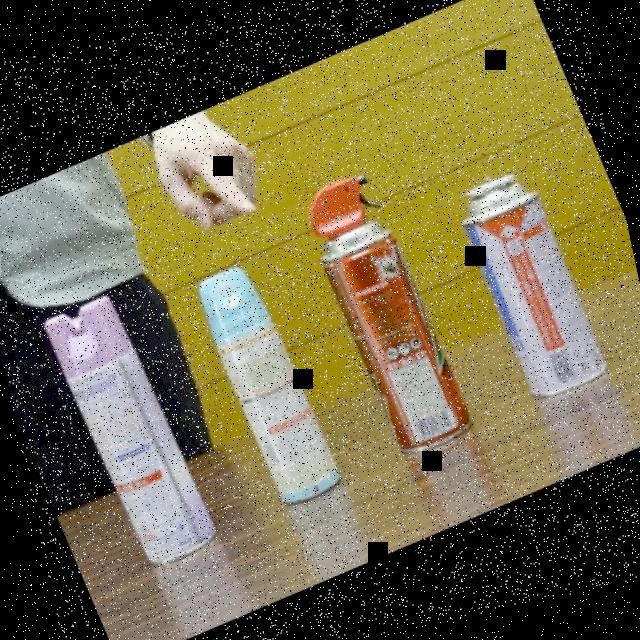chemical_spray_can: (7, 255, 243, 610), (271, 142, 504, 494), (149, 229, 373, 559), (461, 173, 606, 395)
